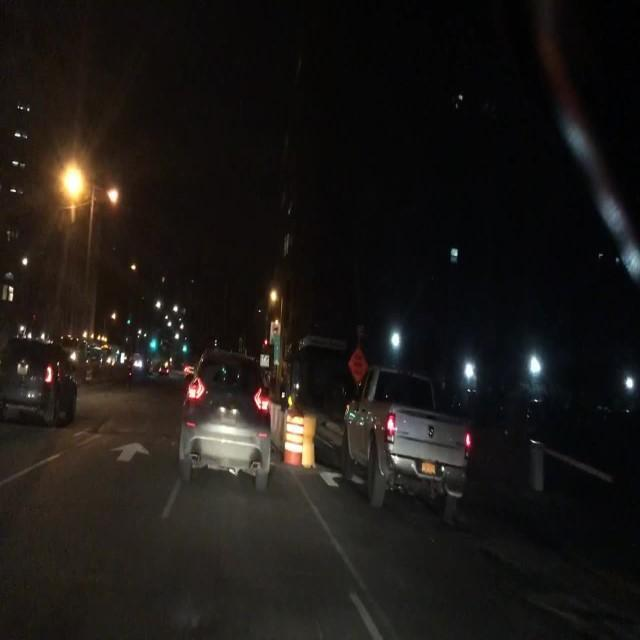normal: (331, 340, 495, 533), (184, 348, 277, 493), (0, 336, 77, 424)
